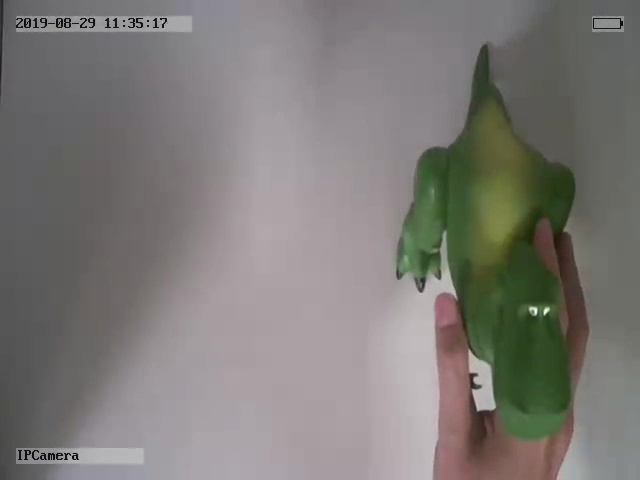rex: (396, 43, 577, 439)
